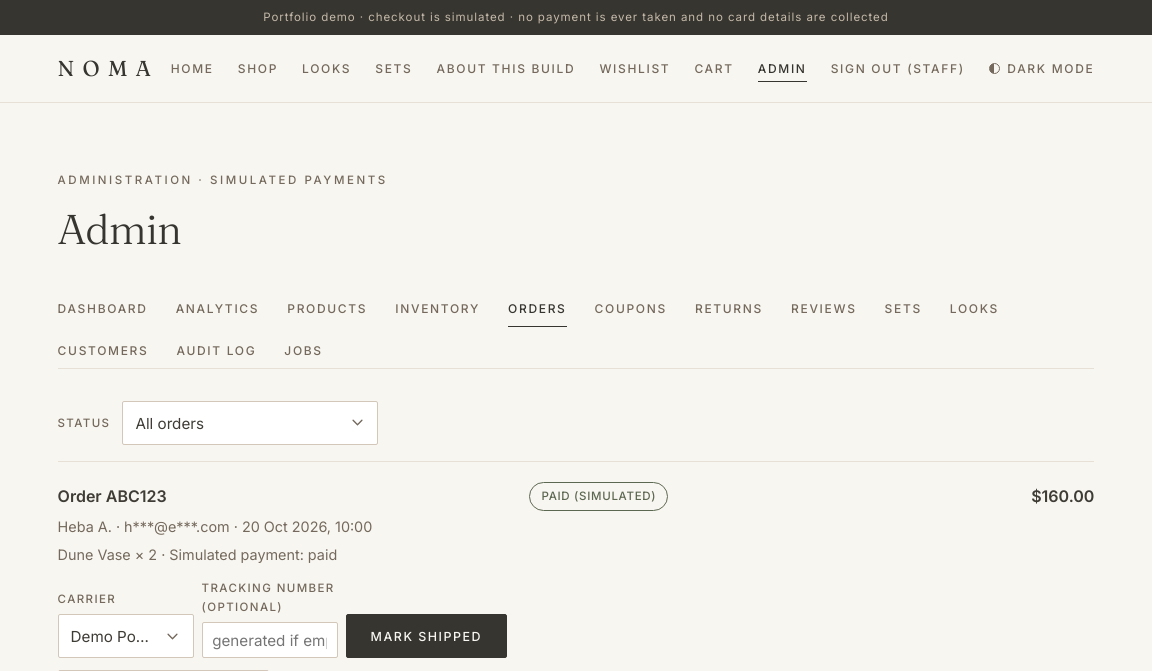
Test: admin orders › shows the server’s conflict message and reloads the real state
The width and height of the screenshot is (1152, 671).
Step 1. Click the button "Mark shipped" → click(426, 636), box x1=346 y1=614 x2=507 y2=658
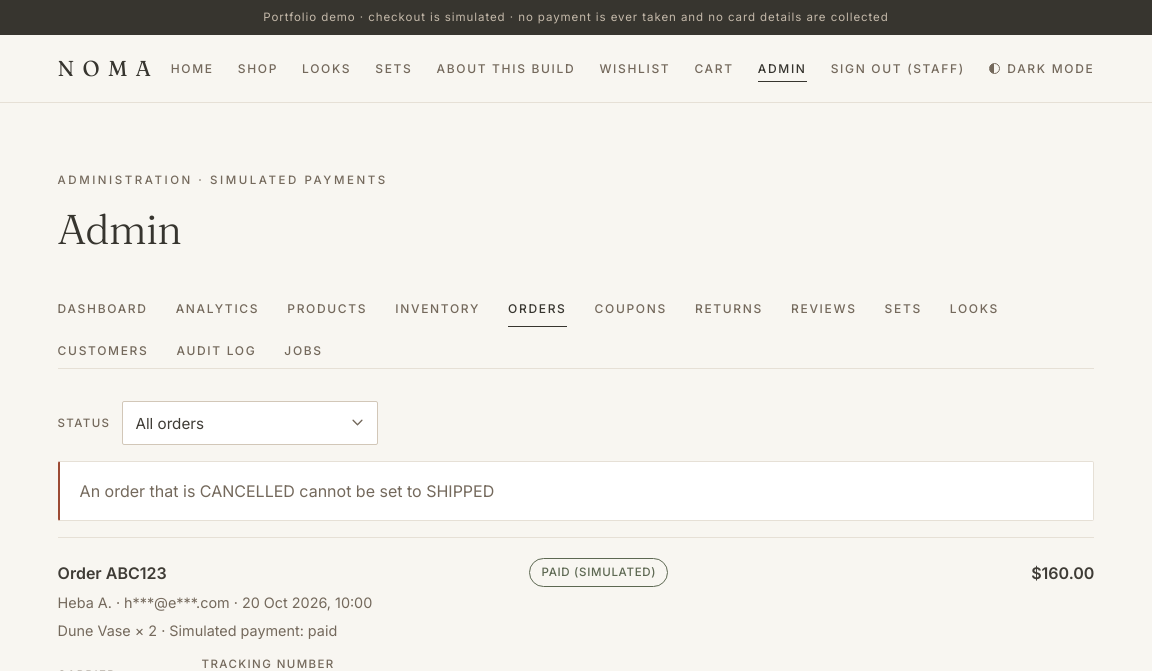
Expected: the message shows "cannot be set to SHIPPED", x1=80 y1=481 x2=494 y2=501
